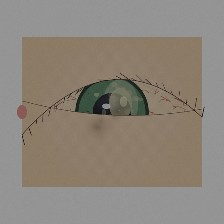corneal_ulcer: (95, 83, 146, 124)
